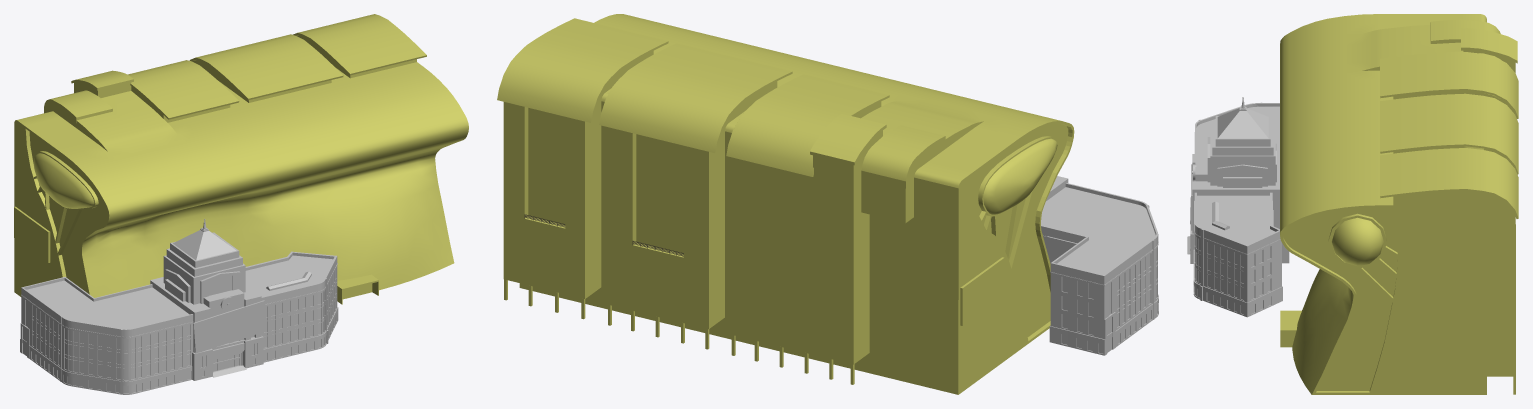
File: cityhall.FBX
3 renders of one model, left to right at view 1: azimuth 30°, elevation 25°; view 2: azimuth 150°, elevation 25°; view 3: azimuth 270°, elevation 25°, orthographic. The views are drawn at different scales.
Parts seen in each view (by area): view 1: hall, library; view 2: hall, library; view 3: hall, library.
Part boxes in pixels (x1=…): hall: x1=14, y1=14, x2=468, y2=304; library: x1=20, y1=219, x2=338, y2=394; hall: x1=497, y1=14, x2=1074, y2=394; library: x1=1041, y1=176, x2=1158, y2=355; hall: x1=1280, y1=14, x2=1518, y2=394; library: x1=1187, y1=97, x2=1289, y2=317.
Bounding box in the file's own units: 16191 × 7017 × 9854.
